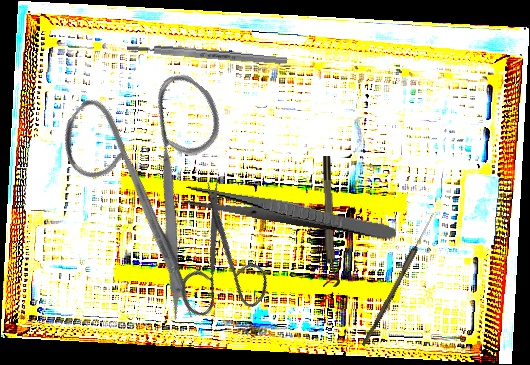Dressing Forceps: (180, 183, 399, 243)
Fixation Ring: (320, 155, 341, 288)
Iris Scissors: (13, 34, 309, 328), (133, 175, 300, 342)
Scalpel Handle: (126, 42, 288, 67)
Surgical Spoon: (361, 211, 437, 348)
